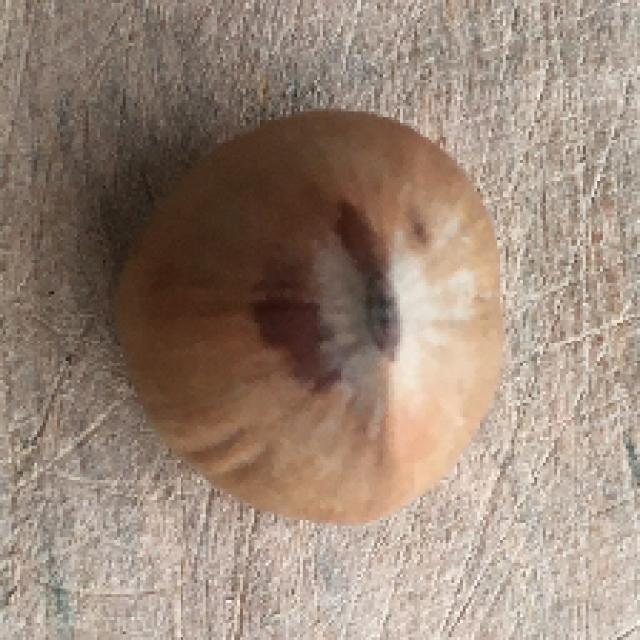DamagedHazelnut: (112, 109, 503, 522)
